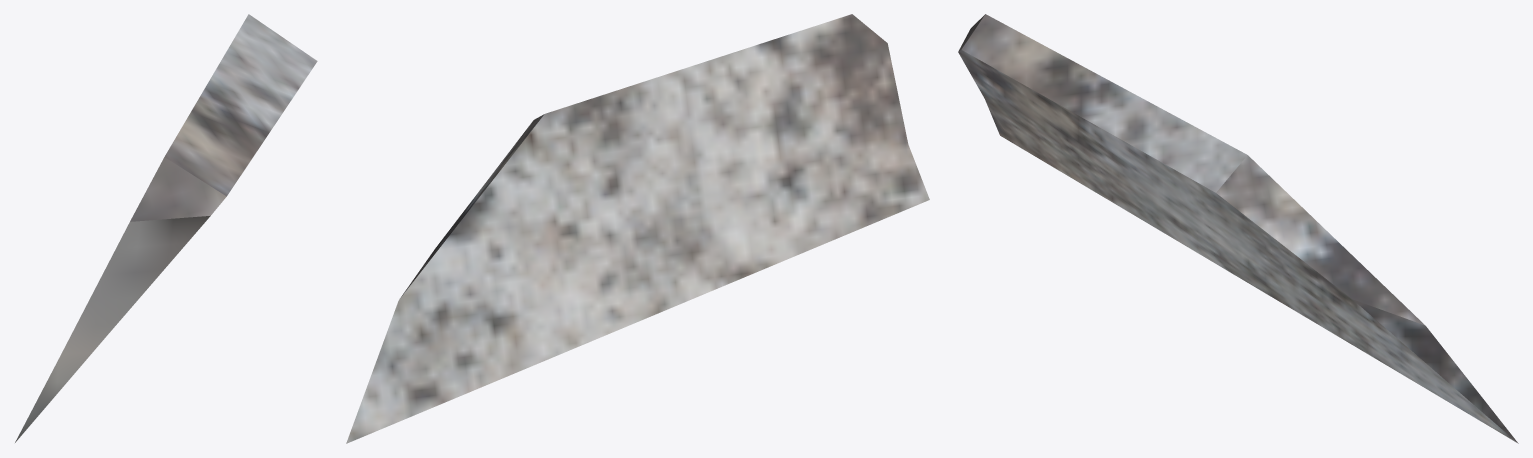
The model's file is Asteroid_Large_001_02_004_03_003.fbx.
The picture shows the model from 3 angles, left to right: view 1: azimuth 30°, elevation 25°; view 2: azimuth 150°, elevation 25°; view 3: azimuth 270°, elevation 25°; orthographic projection. The views are drawn at different scales.
Visible parts, largest first — view 1: Asteroid_Large_001_02_004_03_003; view 2: Asteroid_Large_001_02_004_03_003; view 3: Asteroid_Large_001_02_004_03_003.
Part boxes in pixels (left/top/right/bottom): Asteroid_Large_001_02_004_03_003: left=15, top=14, right=317, bottom=442; Asteroid_Large_001_02_004_03_003: left=346, top=14, right=929, bottom=443; Asteroid_Large_001_02_004_03_003: left=958, top=14, right=1518, bottom=443.
Bounding box in the file's own units: 2.72 × 2.36 × 3.9.
